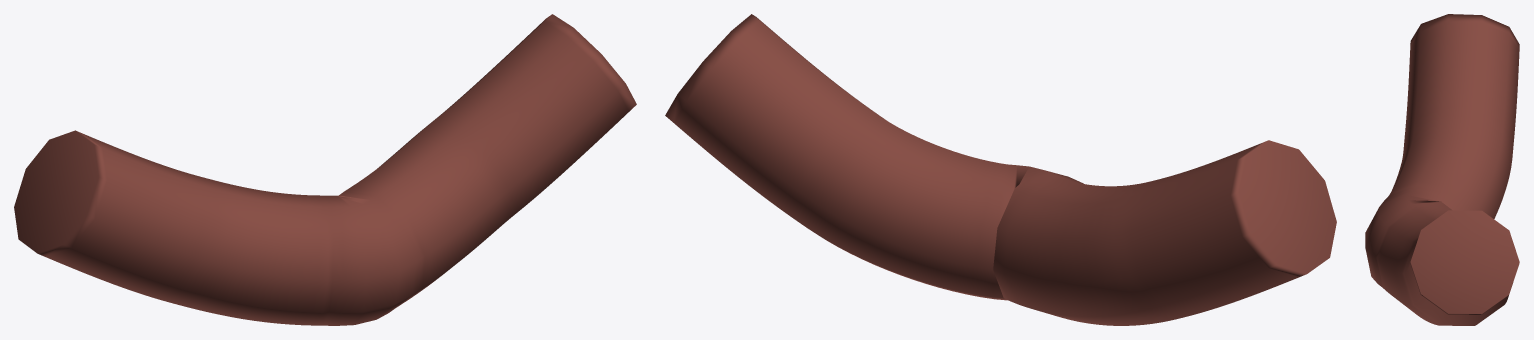
Rendered from 4HT-feminino.glb.
The picture shows the model from 3 angles, left to right: view 1: azimuth 30°, elevation 25°; view 2: azimuth 150°, elevation 25°; view 3: azimuth 270°, elevation 25°; orthographic projection. The views are drawn at different scales.
Parts seen in each view (by area): view 1: mouth-relief; view 2: mouth-relief; view 3: mouth-relief.
Boxes of the visible parts, bbox=[...] form: mouth-relief: bbox=[14, 14, 636, 325]; mouth-relief: bbox=[665, 14, 1336, 325]; mouth-relief: bbox=[1365, 14, 1519, 325].
Bounding box in the file's own units: 0.00684 × 0.0024 × 0.00184.
